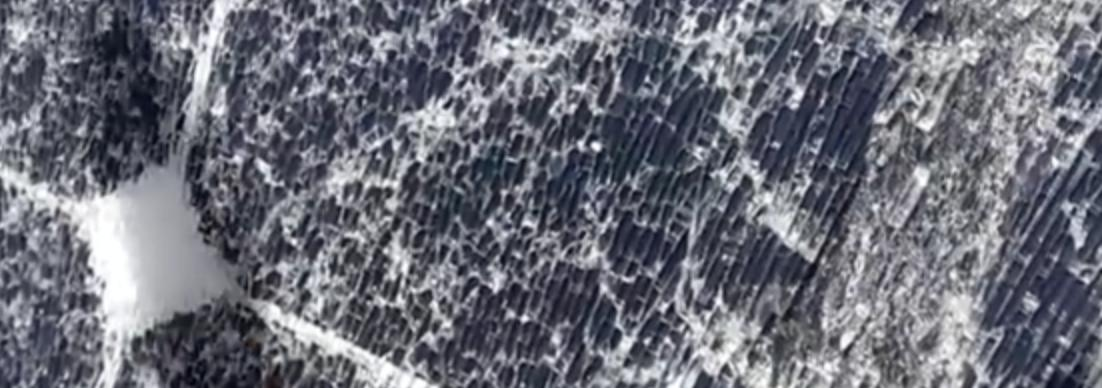Crack: (535, 9, 1091, 388), (0, 0, 538, 388)
